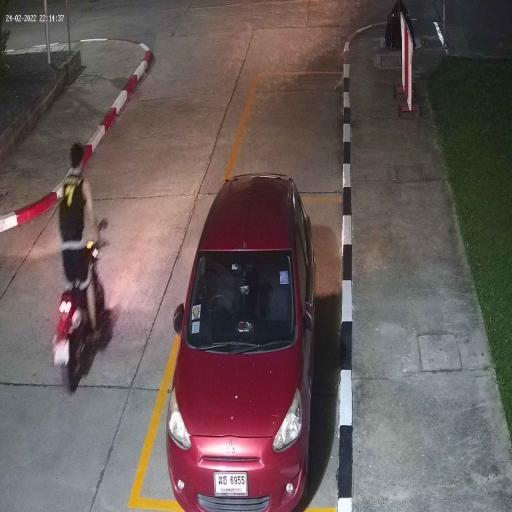car: (166, 171, 316, 511)
motorcycle: (52, 281, 108, 398)
